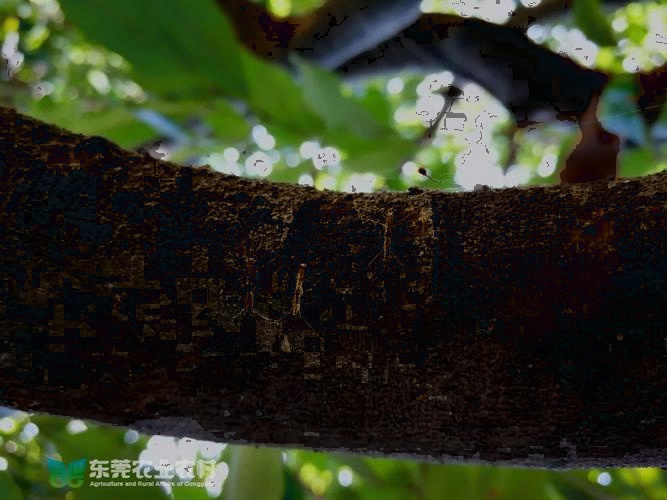Borer: (237, 246, 264, 309), (292, 260, 314, 318), (381, 210, 400, 263)
